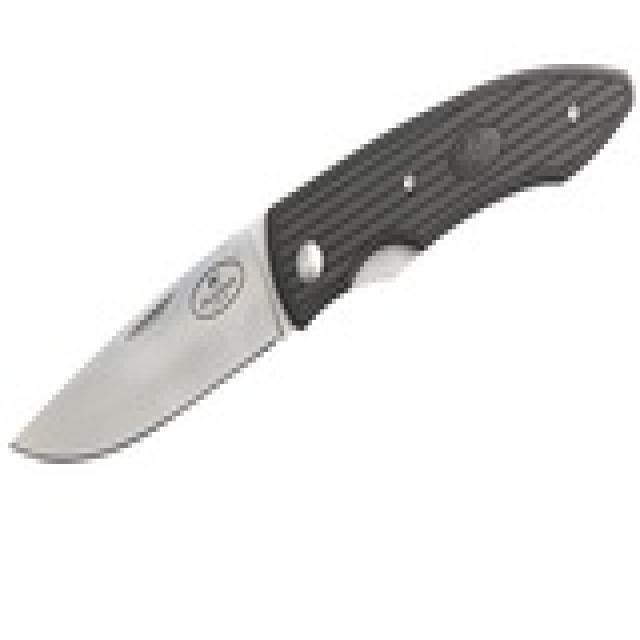Knife: (0, 70, 633, 512)
